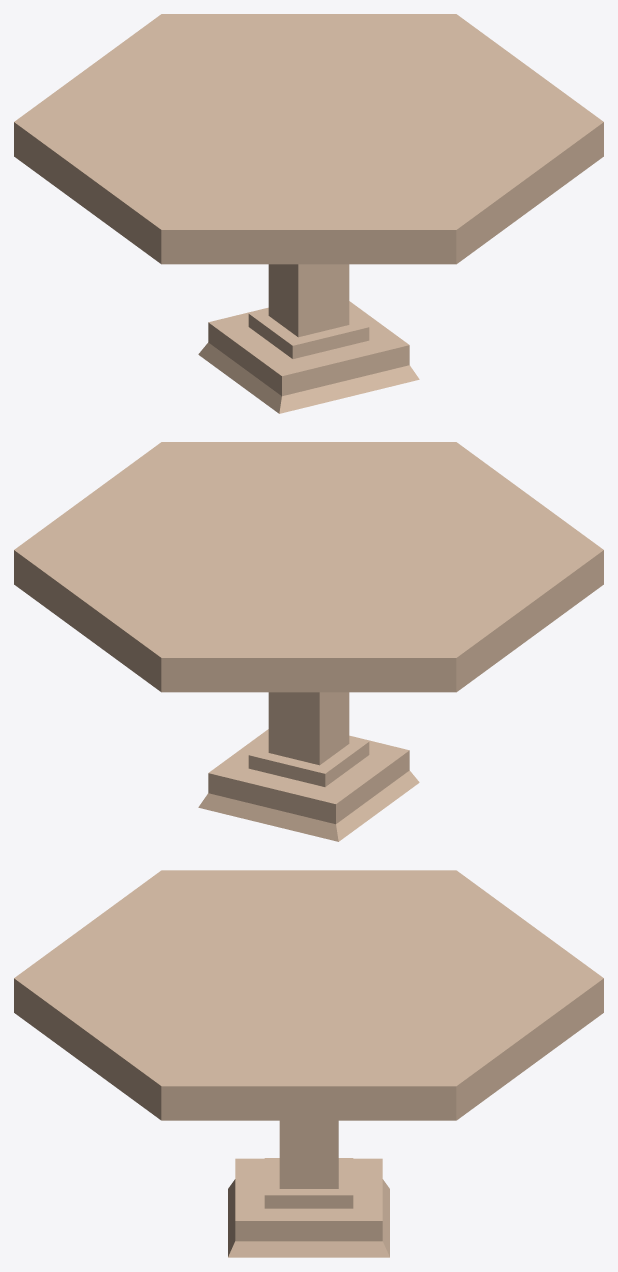
File: table_round.glb
The picture shows the model from 3 angles, top to bottom: view 1: azimuth 30°, elevation 25°; view 2: azimuth 150°, elevation 25°; view 3: azimuth 270°, elevation 25°; orthographic projection.
Visible parts, largest first — view 1: tableRound(Clone); view 2: tableRound(Clone); view 3: tableRound(Clone).
Boxes of the visible parts, x1,y1,x2,y2 form: tableRound(Clone): [14, 14, 603, 413]; tableRound(Clone): [14, 442, 603, 841]; tableRound(Clone): [14, 870, 603, 1257].
Bounding box in the file's own units: 1.45 × 0.7701 × 1.68.
